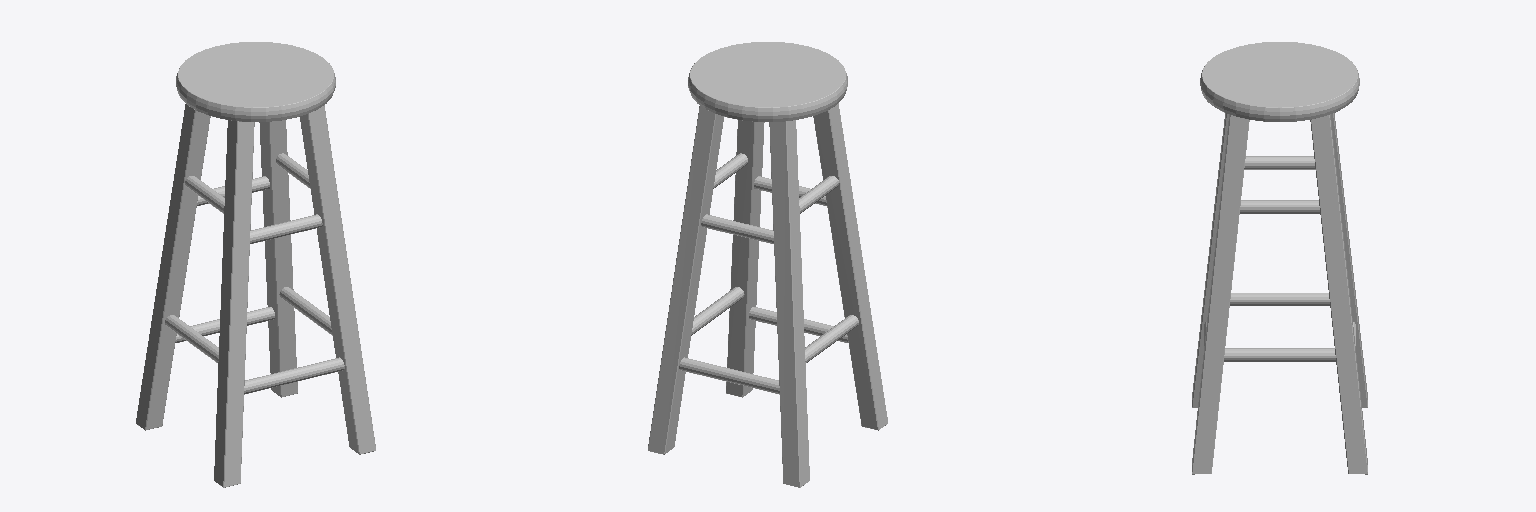
The model's file is stool.obj.
3 views of the same model, side by side, from view 1: azimuth 30°, elevation 25°; view 2: azimuth 150°, elevation 25°; view 3: azimuth 270°, elevation 25° (orthographic).
Visible parts, largest first — view 1: stool_Cylinder; view 2: stool_Cylinder; view 3: stool_Cylinder.
Part boxes in pixels (x1,y1,x2,y2): stool_Cylinder: (136, 42, 375, 487); stool_Cylinder: (648, 42, 887, 487); stool_Cylinder: (1192, 42, 1367, 474).
Bounding box in the file's own units: 0.3974 × 0.8996 × 0.3974.